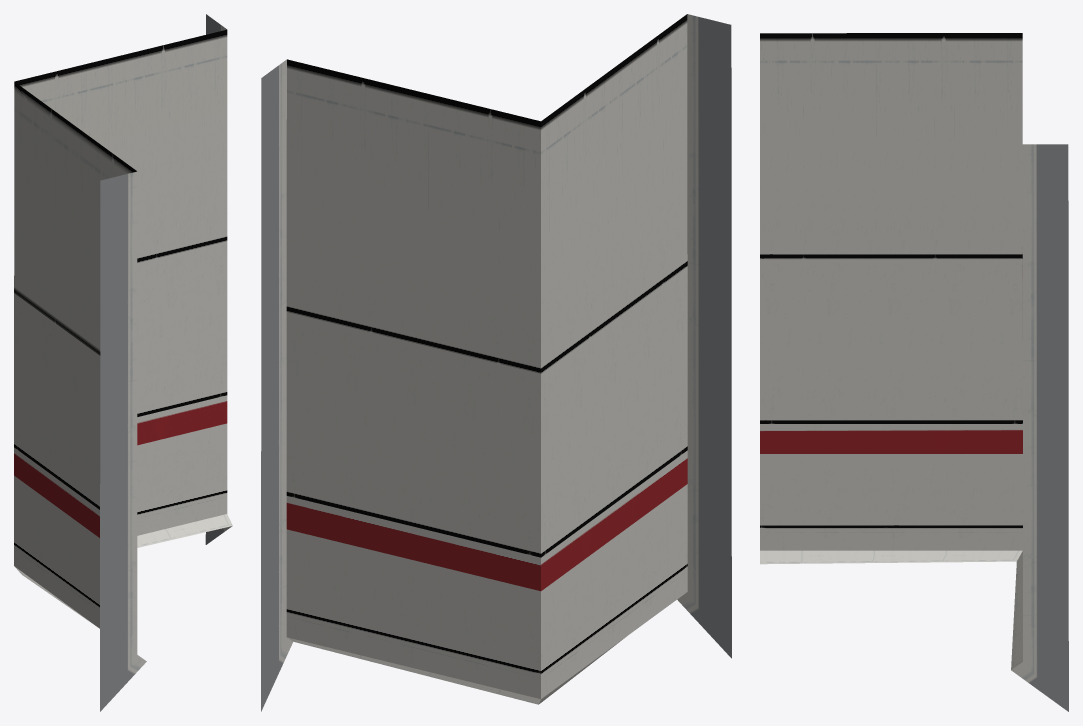
The model's file is G_Env_Arch_Corridor_04_CornerInverted.fbx.
The picture shows the model from 3 angles, left to right: view 1: azimuth 30°, elevation 25°; view 2: azimuth 150°, elevation 25°; view 3: azimuth 270°, elevation 25°; orthographic projection. The views are drawn at different scales.
Visible parts, largest first — view 1: G_Env_Arch_Corridor_04_CornerInverted; view 2: G_Env_Arch_Corridor_04_CornerInverted; view 3: G_Env_Arch_Corridor_04_CornerInverted.
Boxes of the visible parts, left/top/right/bottom form: G_Env_Arch_Corridor_04_CornerInverted: left=14, top=14, right=232, bottom=711; G_Env_Arch_Corridor_04_CornerInverted: left=261, top=14, right=731, bottom=711; G_Env_Arch_Corridor_04_CornerInverted: left=760, top=33, right=1068, bottom=711.
Size of the model in its own units: 500 by 1015 by 500.
